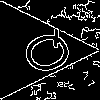Q: (8, 25, 80, 84)
